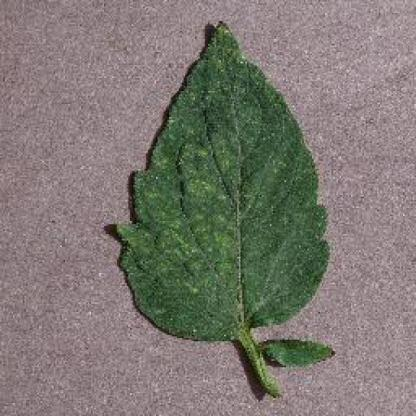Tomato_Spider_Mites: (117, 22, 330, 340)
